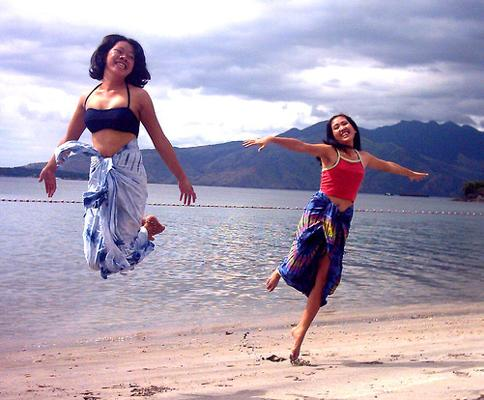person: (42, 34, 193, 277)
